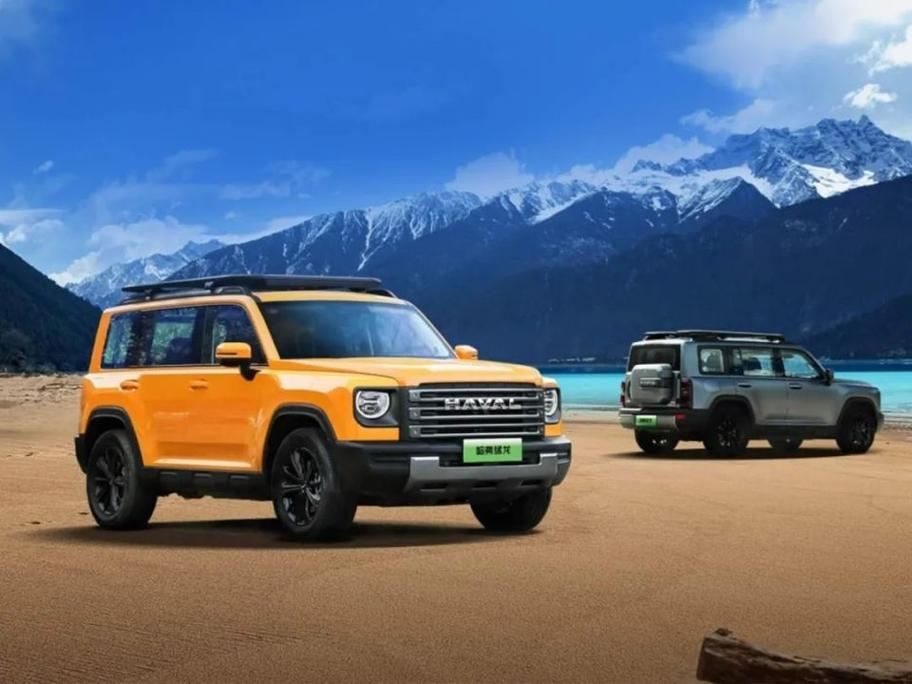汽车: (62, 269, 578, 538), (621, 328, 889, 465)
